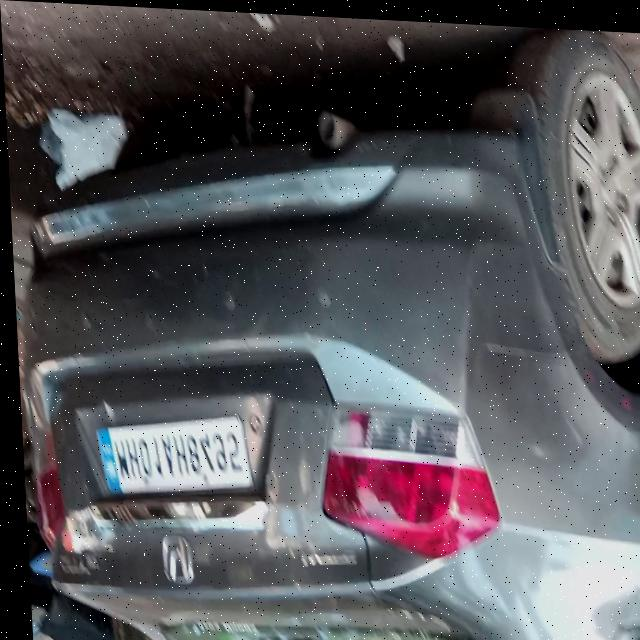plate: (90, 406, 250, 503)
